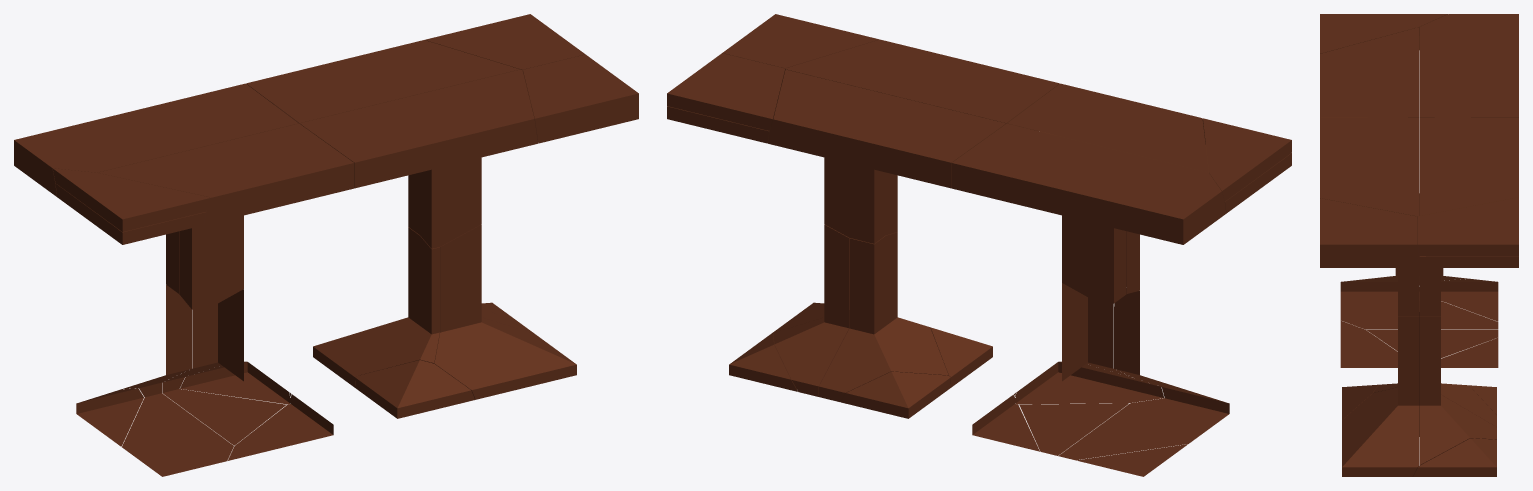
File: TischGroß_kaputt.glb
3 views of the same model, side by side, from view 1: azimuth 30°, elevation 25°; view 2: azimuth 150°, elevation 25°; view 3: azimuth 270°, elevation 25° (orthographic). The views are drawn at different scales.
Visible parts, largest first — view 1: Großer Tisch_cell, Großer Tisch_cell.009, Großer Tisch_cell.019, Großer Tisch_cell.013, Großer Tisch_cell.011, Großer Tisch_cell.008, Großer Tisch_cell.002, Großer Tisch_cell.007, Großer Tisch_cell.005, Großer Tisch_cell.003, Großer Tisch_cell.012, Großer Tisch_cell.014 (+5 smaller); view 2: Großer Tisch_cell.019, Großer Tisch_cell.013, Großer Tisch_cell, Großer Tisch_cell.005, Großer Tisch_cell.009, Großer Tisch_cell.008, Großer Tisch_cell.002, Großer Tisch_cell.001, Großer Tisch_cell.012, Großer Tisch_cell.007, Großer Tisch_cell.003, Großer Tisch_cell.004 (+7 smaller); view 3: Großer Tisch_cell.019, Großer Tisch_cell, Großer Tisch_cell.013, Großer Tisch_cell.011, Großer Tisch_cell.009, Großer Tisch_cell.007, Großer Tisch_cell.012, Großer Tisch_cell.001, Großer Tisch_cell.008, Großer Tisch_cell.003, Großer Tisch_cell.018, Großer Tisch_cell.004 (+7 smaller).
Part boxes in pixels (x1,y1,x2,y2): Großer Tisch_cell: (299, 69, 537, 248); Großer Tisch_cell.009: (98, 123, 354, 309); Großer Tisch_cell.019: (14, 83, 298, 293); Großer Tisch_cell.013: (246, 40, 519, 234); Großer Tisch_cell.011: (434, 224, 576, 399); Großer Tisch_cell.008: (122, 285, 233, 476); Großer Tisch_cell.002: (162, 289, 291, 445); Großer Tisch_cell.007: (523, 54, 638, 143); Großer Tisch_cell.005: (358, 227, 440, 375); Großer Tisch_cell.003: (52, 168, 211, 231); Großer Tisch_cell.012: (425, 14, 585, 72); Großer Tisch_cell.014: (355, 360, 474, 418); Großer Tisch_cell.019: (951, 123, 1226, 303); Großer Tisch_cell.013: (768, 69, 1006, 243); Großer Tisch_cell: (784, 39, 1059, 235); Großer Tisch_cell.005: (819, 232, 948, 401); Großer Tisch_cell.009: (1007, 83, 1208, 293); Großer Tisch_cell.008: (1058, 288, 1229, 460); Großer Tisch_cell.002: (1014, 283, 1132, 455); Großer Tisch_cell.001: (773, 224, 849, 396); Großer Tisch_cell.012: (667, 53, 784, 130); Großer Tisch_cell.007: (722, 14, 879, 68); Großer Tisch_cell.003: (1203, 118, 1291, 201); Großer Tisch_cell.004: (1015, 361, 1163, 404); Großer Tisch_cell.019: (1419, 14, 1518, 117); Großer Tisch_cell: (1320, 117, 1419, 315); Großer Tisch_cell.013: (1419, 117, 1518, 315); Großer Tisch_cell.011: (1342, 316, 1419, 476); Großer Tisch_cell.009: (1320, 27, 1419, 117); Großer Tisch_cell.007: (1320, 198, 1419, 267); Großer Tisch_cell.012: (1418, 197, 1518, 256); Großer Tisch_cell.001: (1419, 316, 1496, 465); Großer Tisch_cell.008: (1340, 193, 1498, 329); Großer Tisch_cell.003: (1320, 14, 1447, 53); Großer Tisch_cell.018: (1413, 438, 1496, 476); Großer Tisch_cell.004: (1340, 321, 1397, 367).
Bounding box in the file's own units: 2.91 × 1.5 × 1.06.
